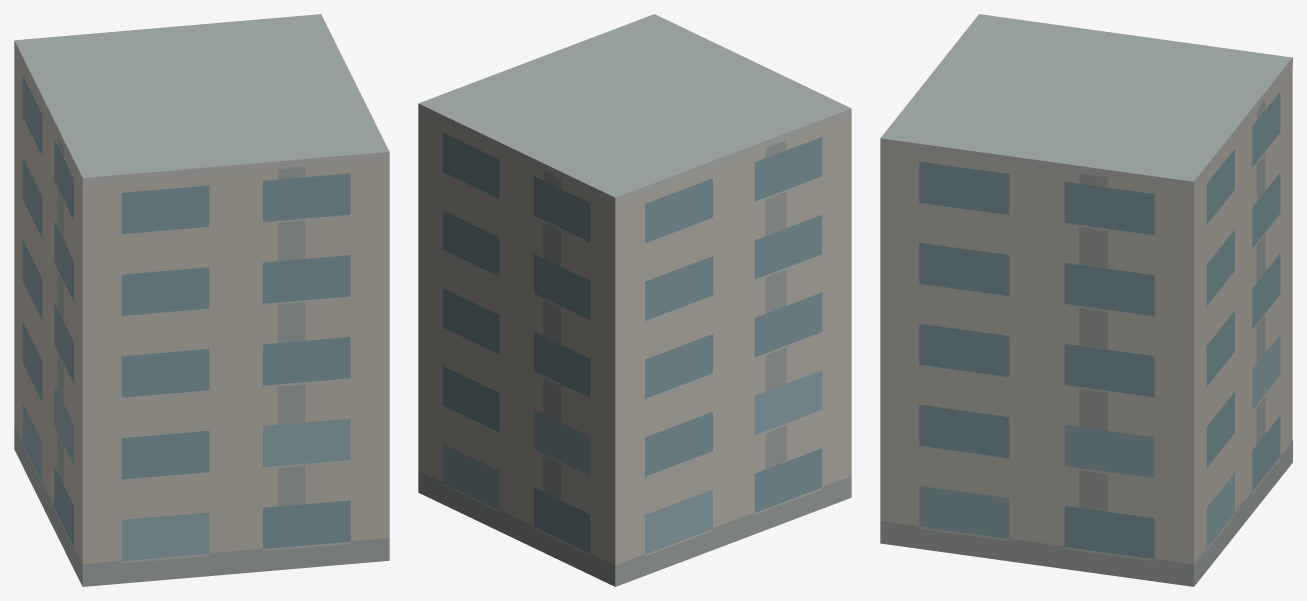
The model's file is survey-upis-32536602.glb.
3 renders of one model, left to right at view 1: azimuth 30°, elevation 25°; view 2: azimuth 150°, elevation 25°; view 3: azimuth 270°, elevation 25°, orthographic. The views are drawn at different scales.
Parts seen in each view (by area): view 1: survey-upis-32536602.tmp; view 2: survey-upis-32536602.tmp; view 3: survey-upis-32536602.tmp.
Boxes of the visible parts, bbox=[...] form: survey-upis-32536602.tmp: bbox=[14, 14, 389, 586]; survey-upis-32536602.tmp: bbox=[418, 14, 851, 586]; survey-upis-32536602.tmp: bbox=[880, 14, 1292, 586].
Size of the model in its own units: 11.56 by 13 by 12.01.
